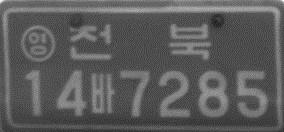1: (21, 69, 51, 117)
2: (157, 69, 190, 118)
4: (56, 69, 86, 116)
5: (235, 69, 269, 118)
7: (119, 68, 150, 117)
8: (197, 69, 229, 119)
바: (90, 72, 114, 114)
영: (20, 23, 56, 64)
전북_D: (68, 23, 210, 60)
